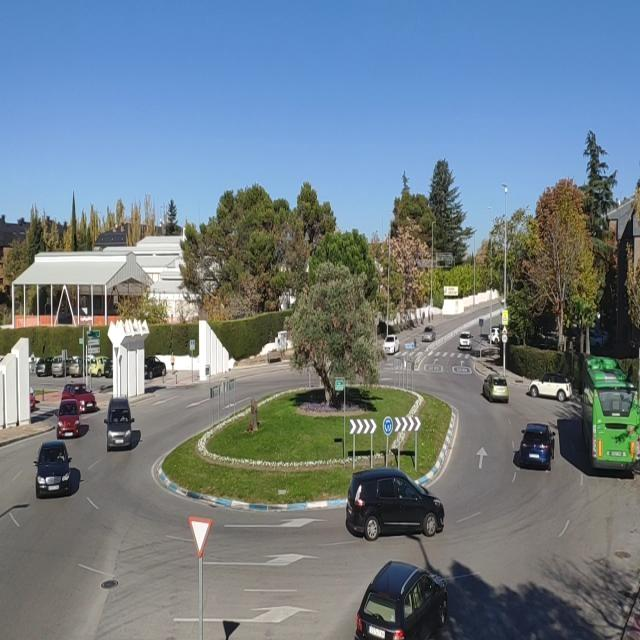Bus: (576, 356, 640, 465)
Car: (343, 466, 460, 536), (352, 560, 448, 639), (34, 442, 74, 497), (516, 424, 556, 468), (103, 398, 135, 450), (528, 371, 573, 401), (60, 383, 97, 413), (56, 400, 84, 439), (482, 374, 509, 403), (50, 356, 74, 378), (144, 357, 166, 379), (35, 357, 56, 377), (384, 335, 399, 354), (422, 326, 436, 342)
